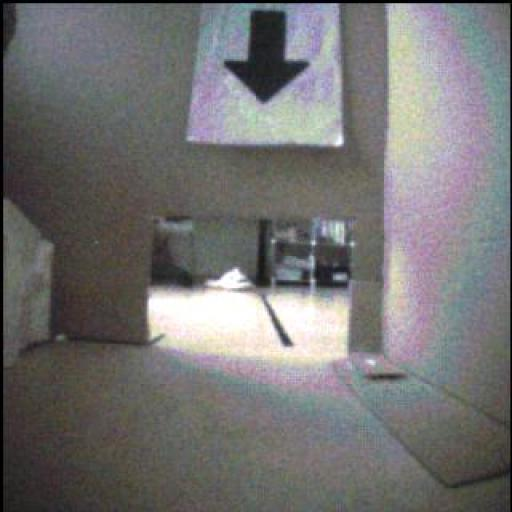arrow: (225, 13, 310, 104)
